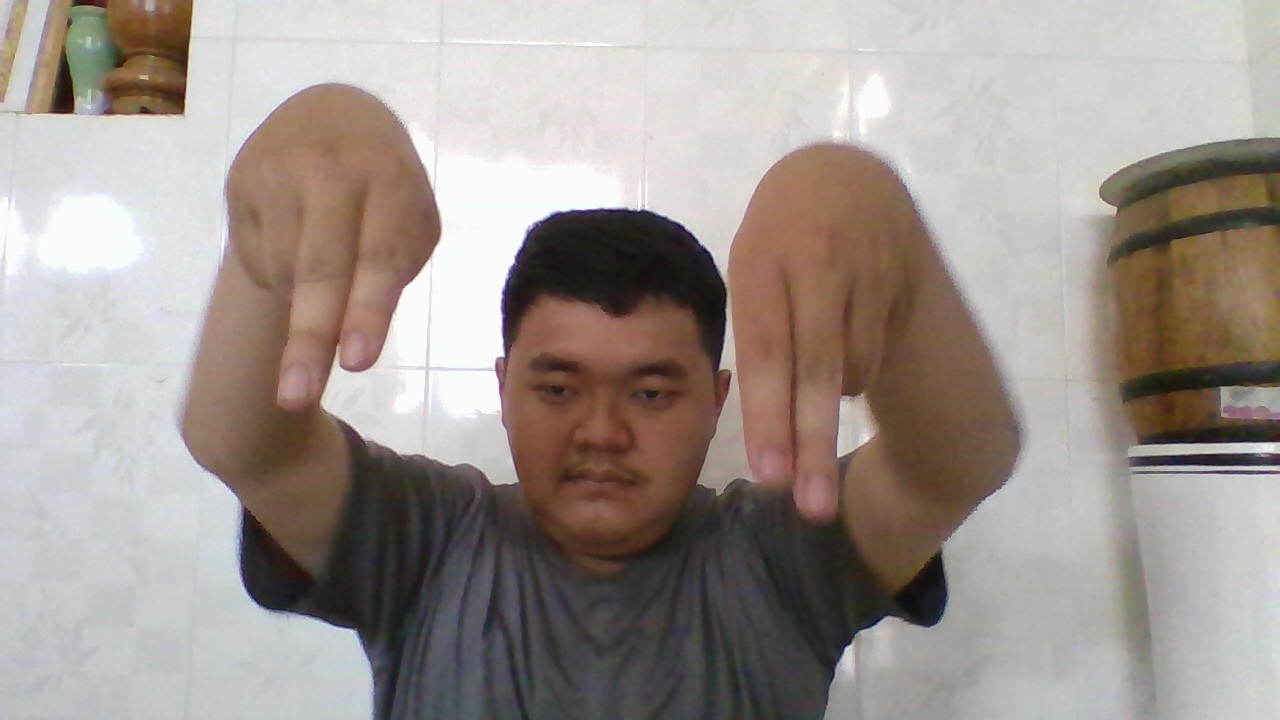N: (734, 145, 920, 528), (224, 96, 439, 417)
